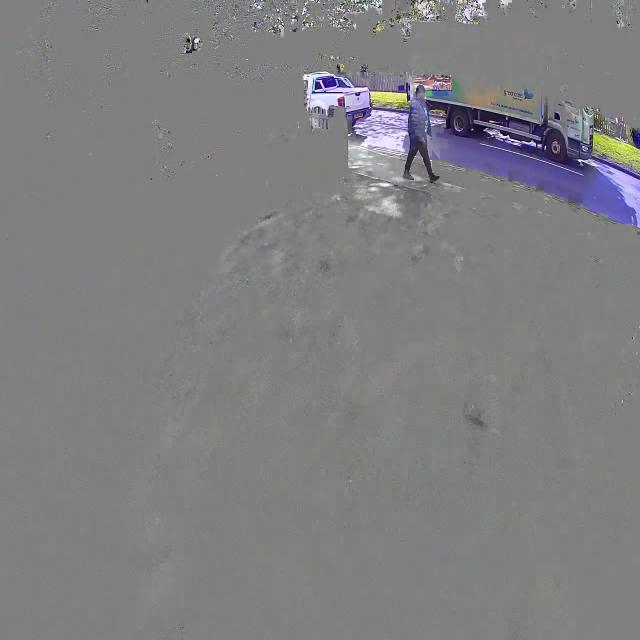human: (403, 78, 442, 190)
vehicle: (300, 71, 372, 133)
